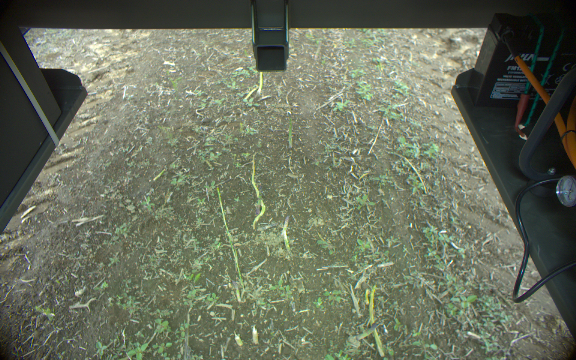aspa: (279, 213, 294, 257), (282, 108, 295, 152), (355, 319, 378, 342)
